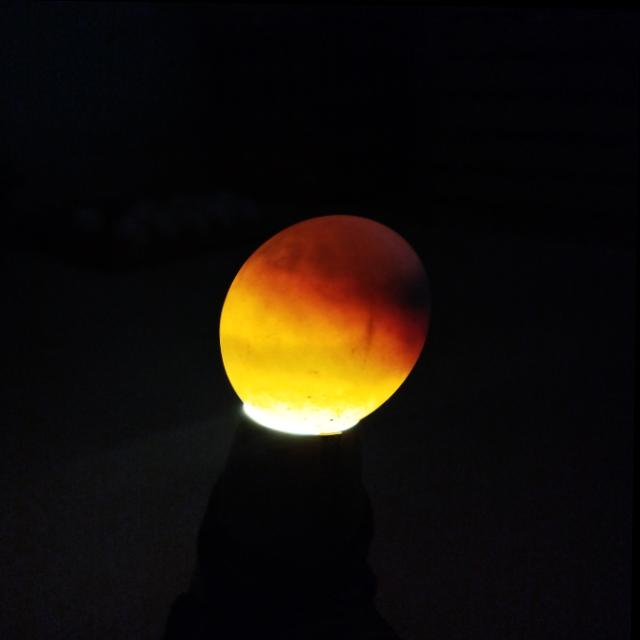Area Infectada: (316, 230, 429, 329)
